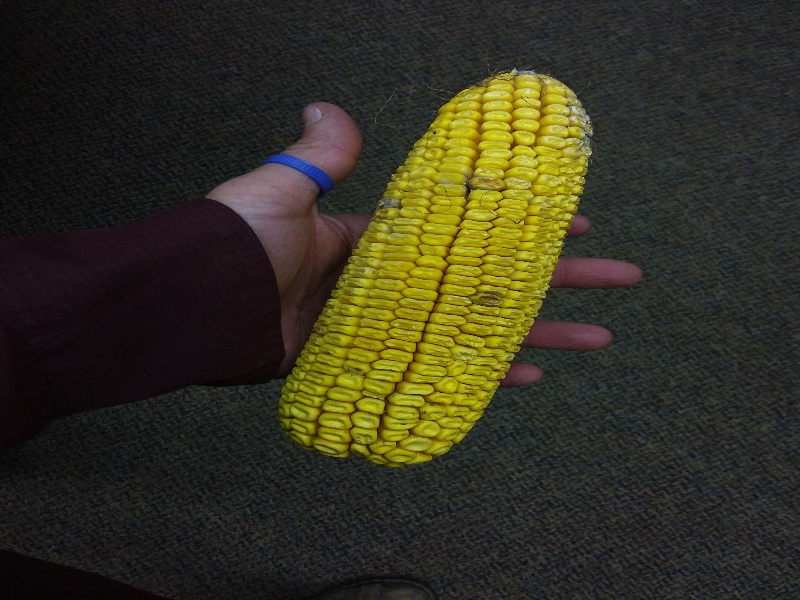band: (263, 149, 337, 194)
ear: (274, 62, 598, 471)
